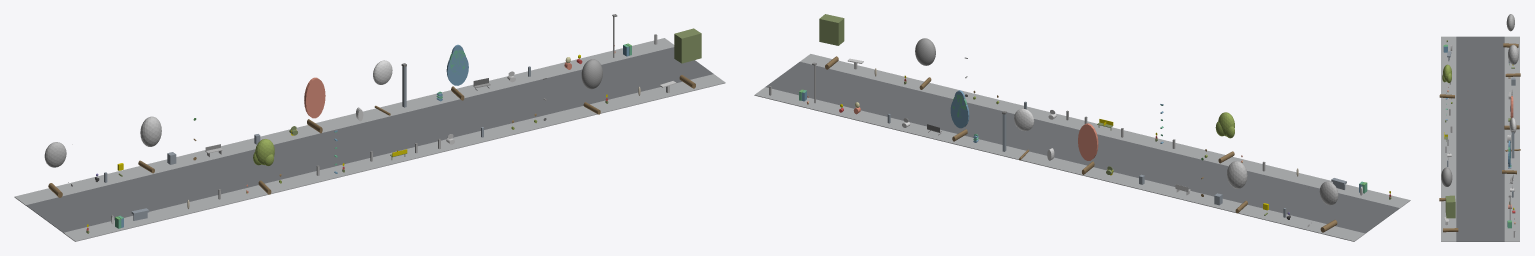
The picture shows the model from 3 angles, left to right: view 1: azimuth 30°, elevation 25°; view 2: azimuth 150°, elevation 25°; view 3: azimuth 270°, elevation 25°; orthographic projection. The views are drawn at different scales.
Visible parts, largest first — view 1: road_slab, sidewalk_left, sidewalk_right, inst_0025, inst_0021, inst_0023, inst_0019, inst_0024, inst_0020, inst_0018, inst_0022; view 2: road_slab, sidewalk_right, sidewalk_left, inst_0025, inst_0021, inst_0023, inst_0024, inst_0019, inst_0020, inst_0018, inst_0022; view 3: road_slab, sidewalk_right, sidewalk_left, inst_0025, inst_0019, inst_0020, inst_0024, inst_0018, inst_0023, inst_0021, inst_0022, inst_0009.
Part boxes in pixels (box(x1,y1,x2,y2)): road_slab: box(26, 47, 713, 232); sidewalk_left: box(63, 74, 725, 241); sidewalk_right: box(14, 38, 674, 205); inst_0025: box(674, 28, 701, 88); inst_0021: box(304, 77, 325, 133); inst_0023: box(446, 44, 468, 100); inst_0019: box(138, 116, 161, 173); inst_0024: box(581, 59, 602, 114); inst_0020: box(253, 139, 274, 194); inst_0018: box(44, 142, 66, 197); inst_0022: box(373, 60, 392, 115); road_slab: box(765, 62, 1399, 233); sidewalk_right: box(754, 87, 1365, 241); sidewalk_left: box(800, 54, 1410, 208); inst_0025: box(819, 14, 844, 69); inst_0021: box(1078, 123, 1098, 174); inst_0023: box(950, 90, 969, 141); inst_0024: box(915, 38, 935, 89); inst_0019: box(1227, 161, 1247, 213); inst_0020: box(1215, 112, 1234, 163); inst_0018: box(1319, 181, 1338, 232); inst_0022: box(1014, 108, 1034, 160); road_slab: box(1456, 36, 1504, 241); sidewalk_right: box(1504, 36, 1519, 241); sidewalk_left: box(1441, 36, 1456, 241); inst_0025: box(1443, 195, 1458, 232); inst_0019: box(1505, 44, 1520, 76); inst_0020: box(1439, 64, 1454, 98); inst_0024: box(1439, 167, 1452, 201); inst_0018: box(1503, 14, 1518, 47); inst_0023: box(1502, 140, 1516, 174); inst_0021: box(1504, 96, 1519, 129); inst_0022: box(1505, 117, 1520, 151); inst_0009: box(1511, 130, 1514, 158).
Size of the model in its own units: 80 by 6.08 by 13.48.
